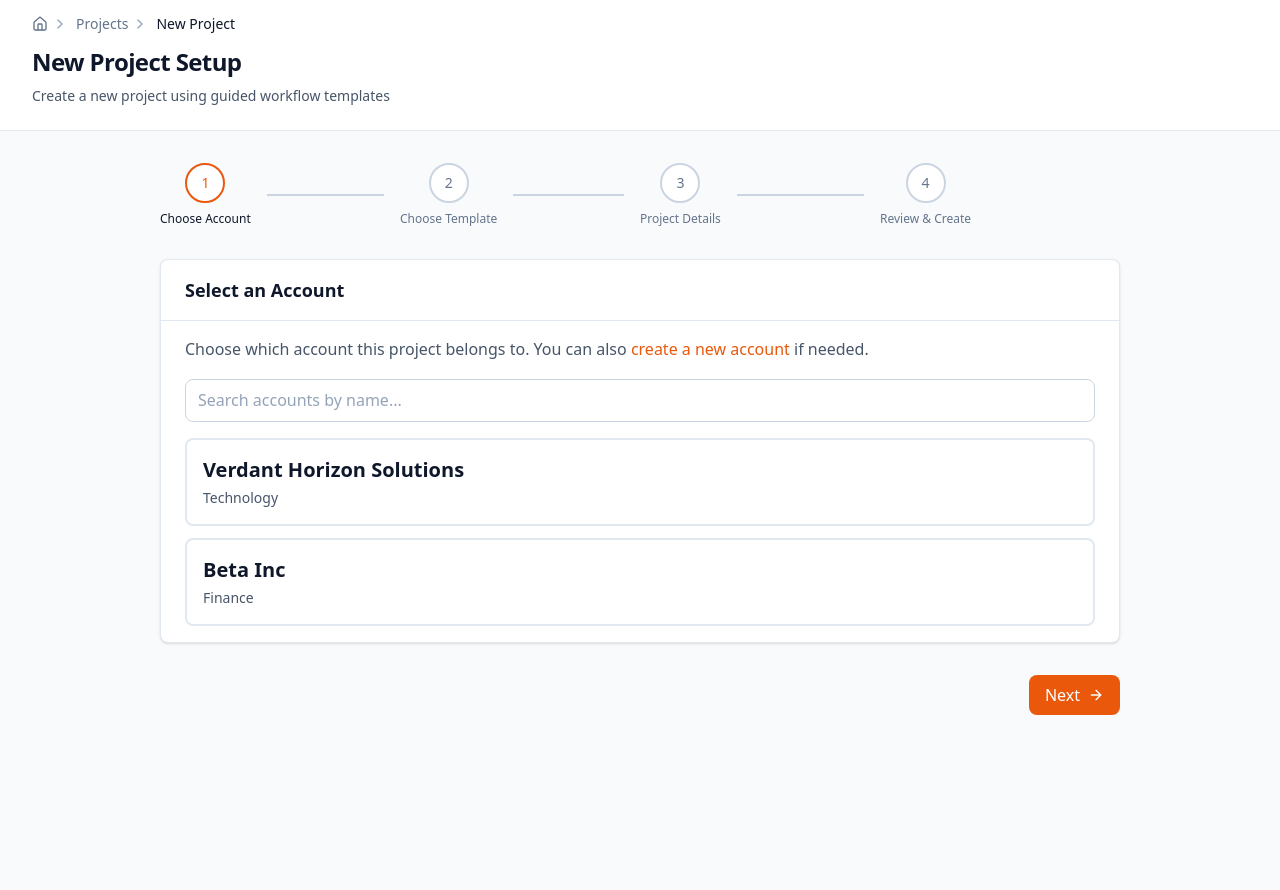
Test case: Project Setup Flow › allows navigating back through steps
Expected: the heading "Verdant Horizon Solutions" is shown, [203,456,464,484]
Click the button "Verdant Horizon Solutions Technology" at (334,470), box [185,438,1095,526]
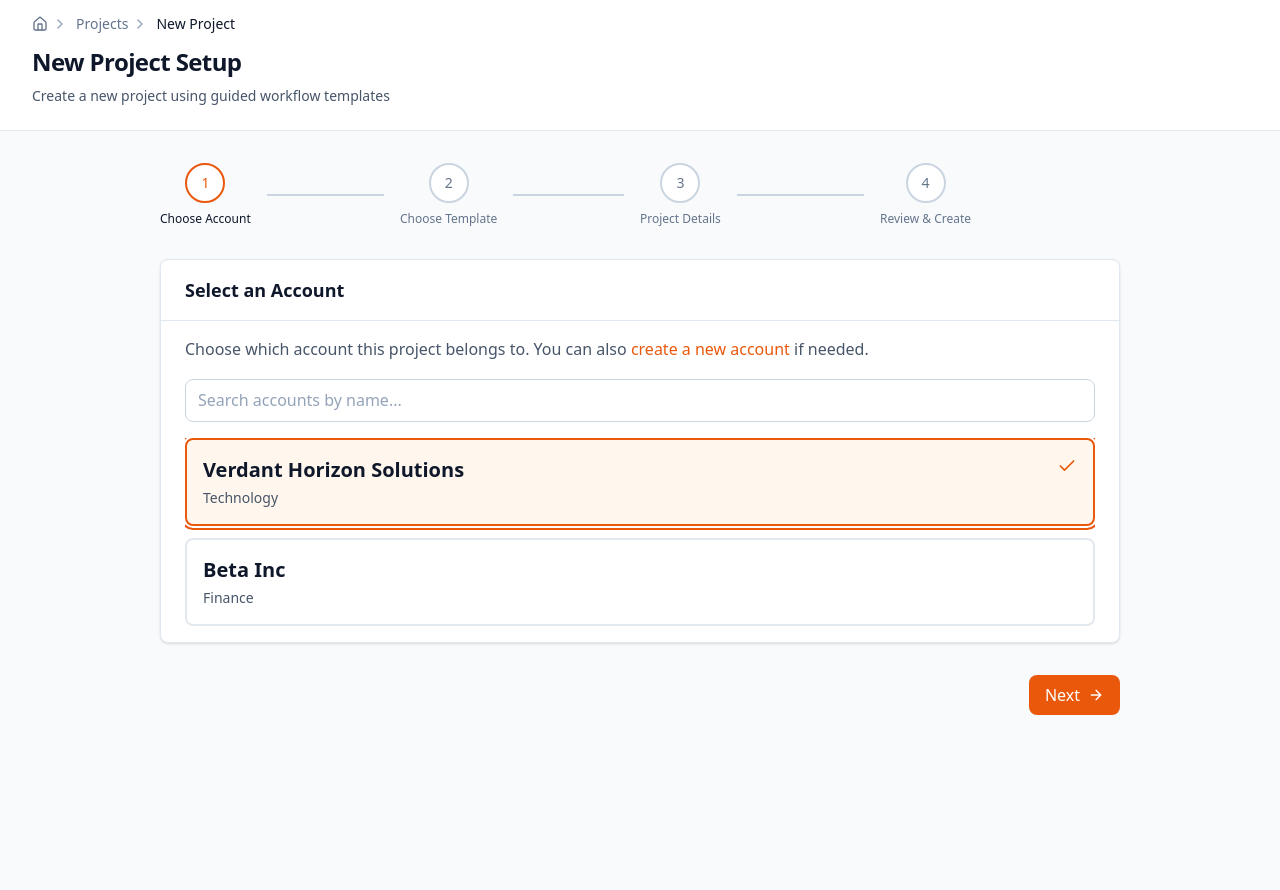
Click the button "Next" at (1074,695), box [1029,675,1120,715]
(page scrolled)
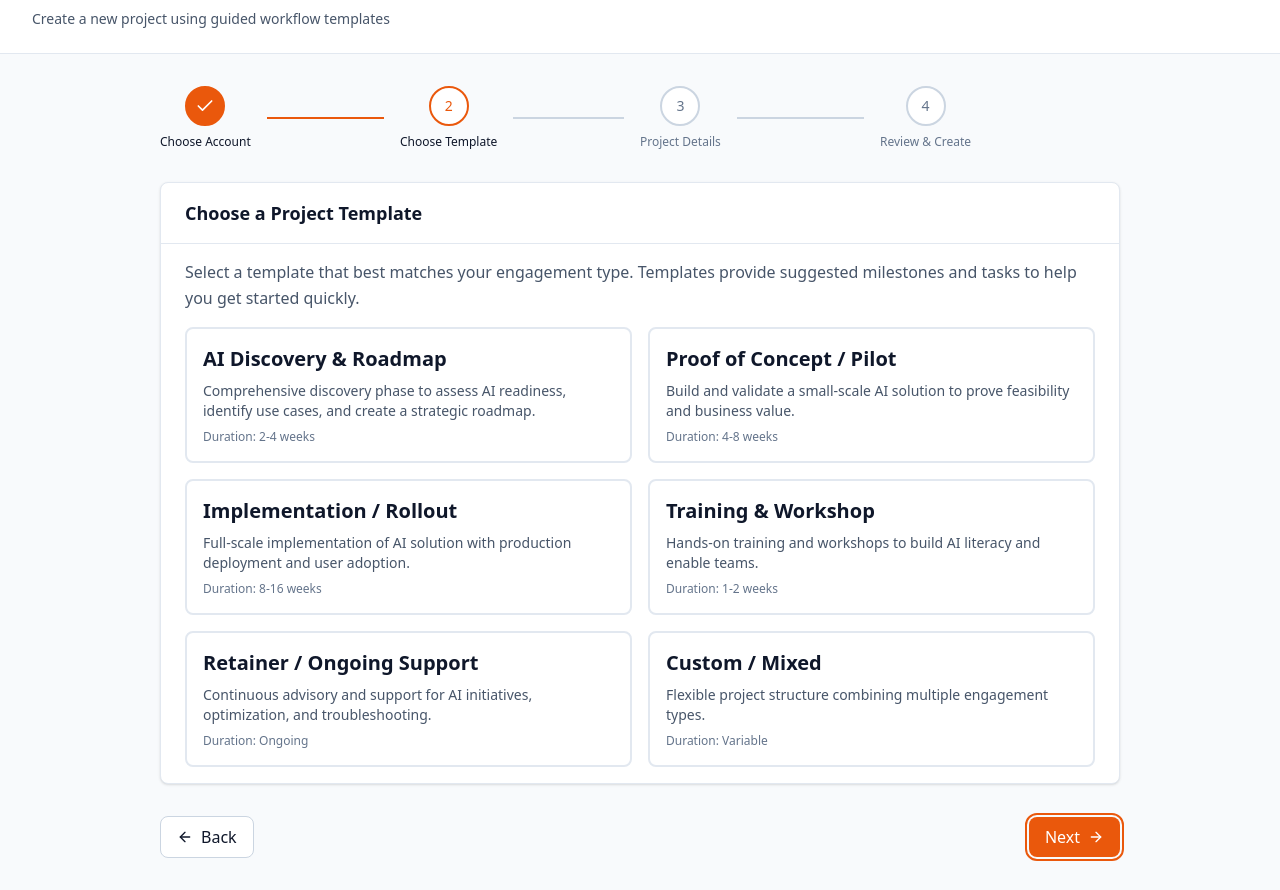
Now the heading "Choose a Project Template" is shown, box [185,201,422,225]
#  Go back
Click the button "Back" at (207,837), box [160,816,254,858]
(page scrolled)
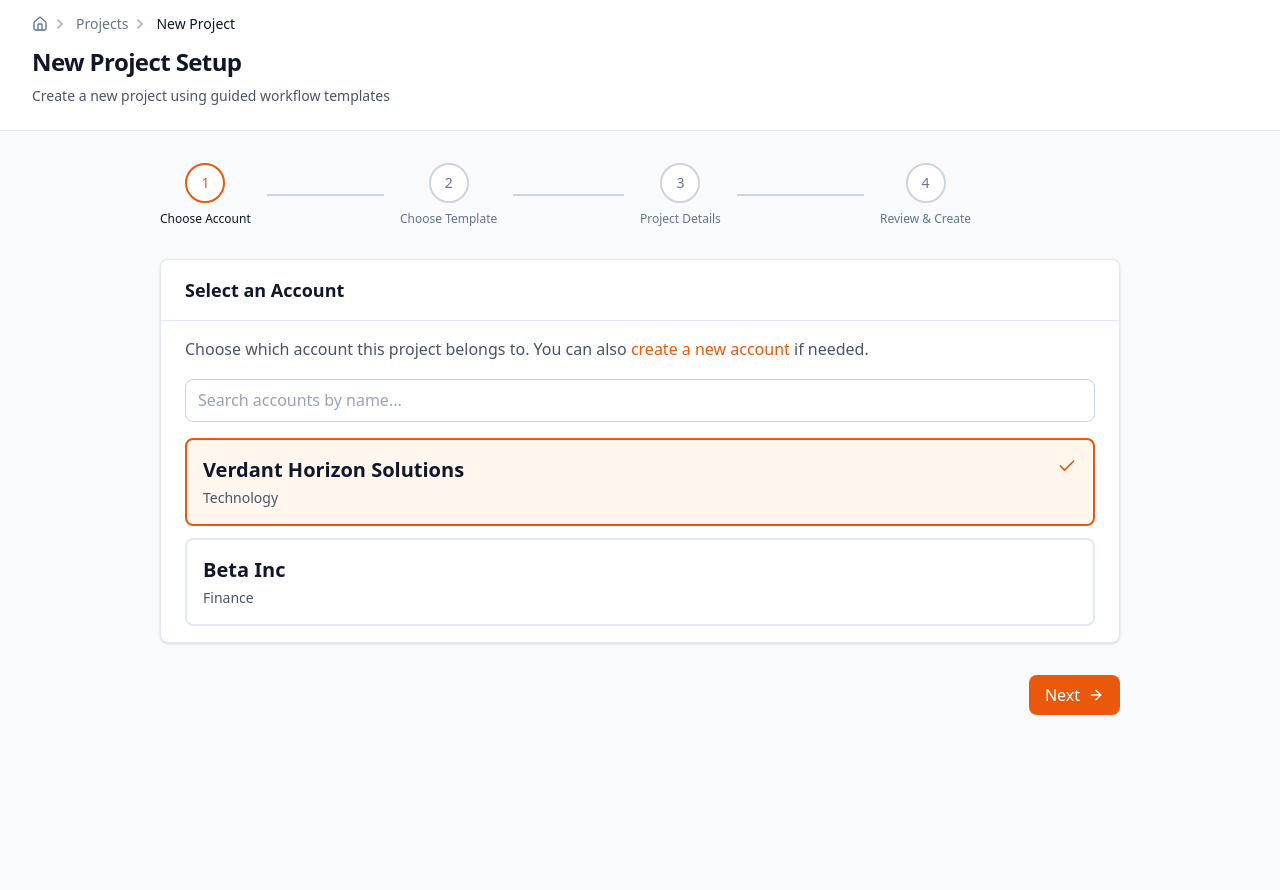
Now the heading "Select an Account" is shown, box [185,278,344,302]
